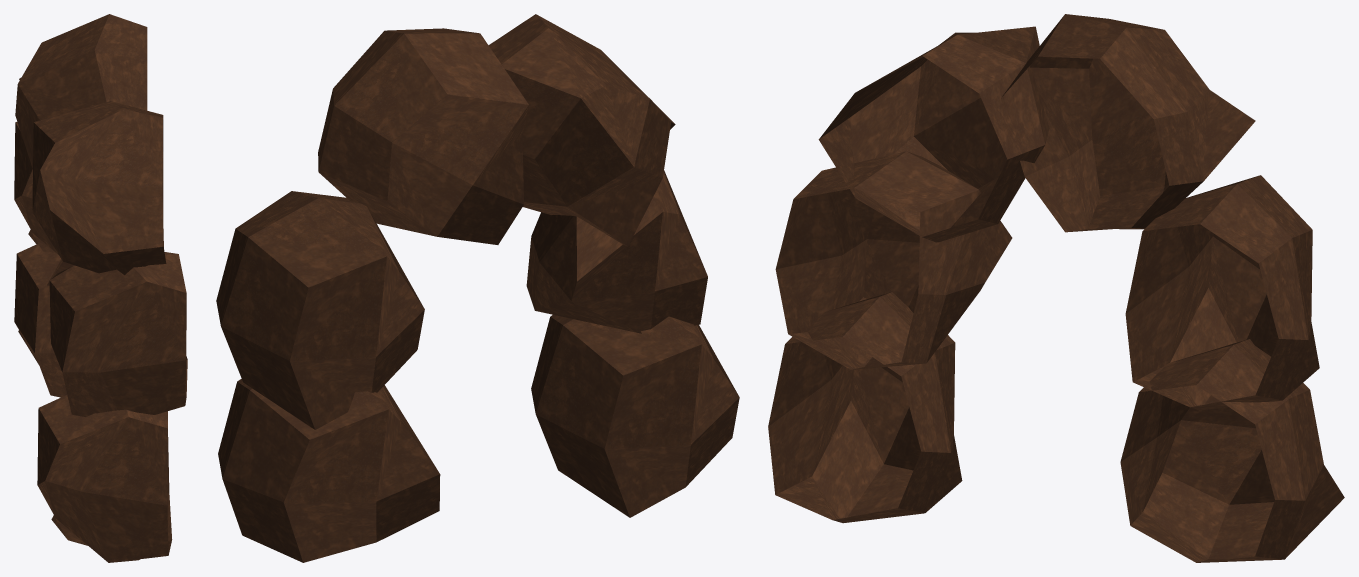
File: Wal Rock Filter.fbx
The picture shows the model from 3 angles, left to right: view 1: azimuth 30°, elevation 25°; view 2: azimuth 150°, elevation 25°; view 3: azimuth 270°, elevation 25°; orthographic projection. The views are drawn at different scales.
Parts seen in each view (by area): view 1: filter_rock_5, filter_rock_4, filter_rock_3, filter_rock_6, filter_rock_1, filter_rock_2; view 2: filter_rock_6, filter_rock_2, filter_rock_3, filter_rock_1, filter_rock_5, filter_rock_4; view 3: filter_rock_1, filter_rock_6, filter_rock_3, filter_rock_2, filter_rock_4, filter_rock_5.
Boxes of the visible parts, bbox=[...] form: filter_rock_5: bbox=[32, 101, 166, 285]; filter_rock_4: bbox=[49, 252, 187, 416]; filter_rock_3: bbox=[37, 395, 172, 562]; filter_rock_6: bbox=[15, 14, 147, 168]; filter_rock_1: bbox=[14, 244, 67, 397]; filter_rock_2: bbox=[14, 122, 58, 254]; filter_rock_6: bbox=[318, 28, 528, 244]; filter_rock_2: bbox=[216, 191, 424, 429]; filter_rock_3: bbox=[531, 314, 739, 517]; filter_rock_1: bbox=[218, 379, 440, 562]; filter_rock_5: bbox=[488, 14, 675, 246]; filter_rock_4: bbox=[526, 170, 707, 333]; filter_rock_1: bbox=[1120, 339, 1344, 562]; filter_rock_6: bbox=[1001, 14, 1255, 232]; filter_rock_3: bbox=[768, 292, 962, 523]; filter_rock_2: bbox=[1125, 175, 1319, 410]; filter_rock_4: bbox=[775, 151, 1012, 369]; filter_rock_5: bbox=[818, 26, 1049, 242].
Size of the model in its own units: 3.1 by 4.84 by 4.63.
